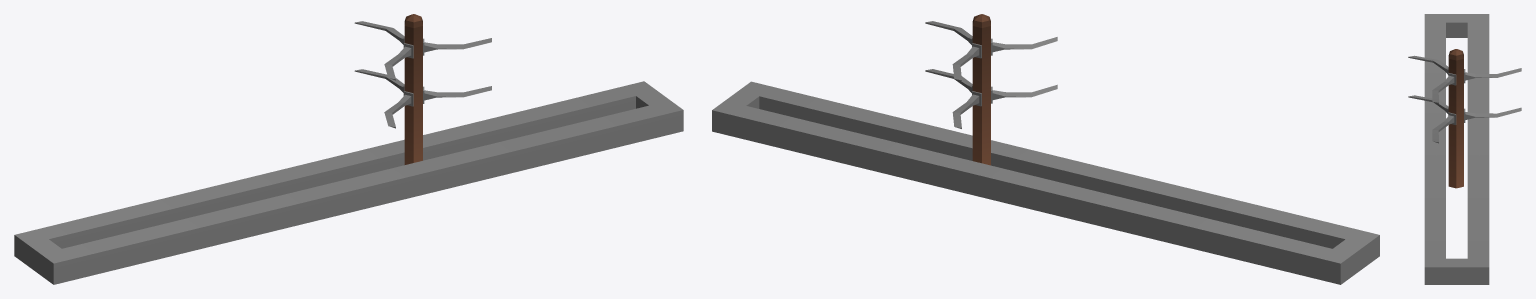
The model's file is Mini_Loop_Trap_2.fbx.
3 views of the same model, side by side, from view 1: azimuth 30°, elevation 25°; view 2: azimuth 150°, elevation 25°; view 3: azimuth 270°, elevation 25° (orthographic). The views are drawn at different scales.
Parts seen in each view (by area): view 1: Mini_Loop_Trap_2, Mini_Loop_Trap_2_Knives; view 2: Mini_Loop_Trap_2, Mini_Loop_Trap_2_Knives; view 3: Mini_Loop_Trap_2, Mini_Loop_Trap_2_Knives.
Boxes of the visible parts, left/top/right/bottom form: Mini_Loop_Trap_2: left=14, top=81, right=683, bottom=284; Mini_Loop_Trap_2_Knives: left=354, top=14, right=491, bottom=164; Mini_Loop_Trap_2: left=712, top=81, right=1379, bottom=284; Mini_Loop_Trap_2_Knives: left=925, top=14, right=1057, bottom=165; Mini_Loop_Trap_2: left=1424, top=14, right=1489, bottom=284; Mini_Loop_Trap_2_Knives: left=1408, top=49, right=1521, bottom=188.
Size of the model in its own units: 391 by 97.09 by 73.84.
1 material, 1 textured.
